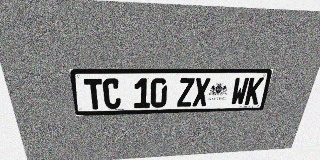0: (150, 78, 167, 108)
1: (134, 78, 150, 108)
C: (102, 78, 121, 109)
K: (244, 77, 264, 105)
T: (83, 79, 104, 110)
W: (230, 77, 250, 105)
X: (192, 78, 211, 106)
Z: (177, 78, 195, 107)
